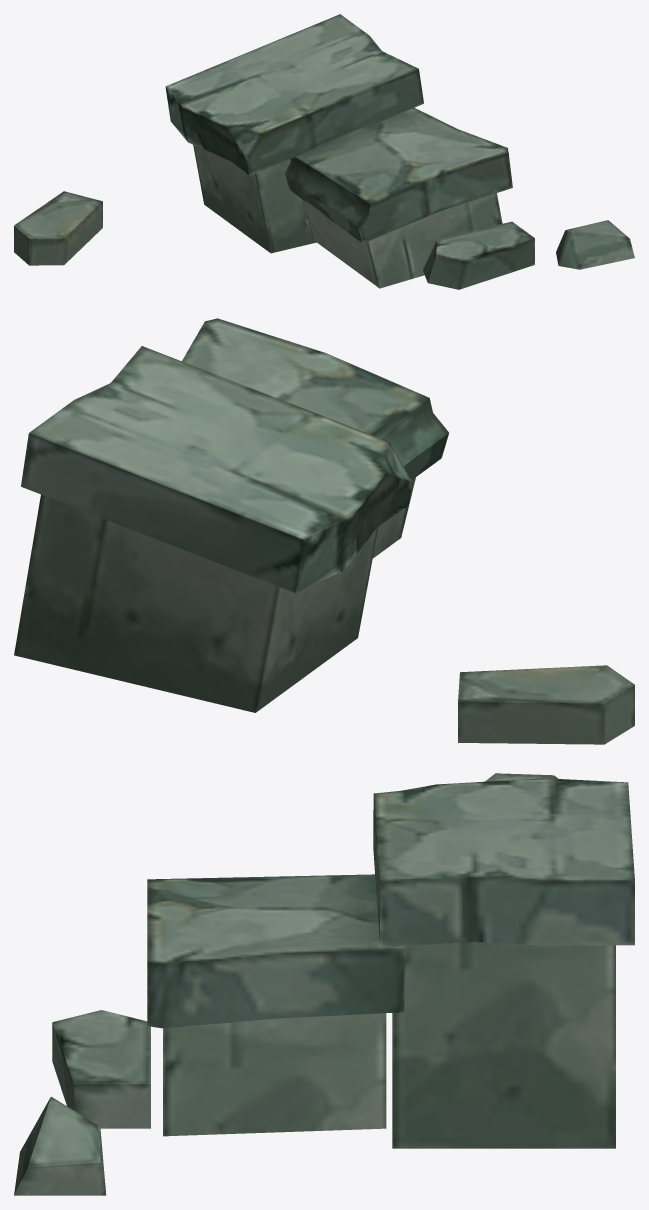
Rendered from 2_YiZhan_SuiShi_01.FBX.
3 renders of one model, top to bottom at view 1: azimuth 30°, elevation 25°; view 2: azimuth 150°, elevation 25°; view 3: azimuth 270°, elevation 25°, orthographic. The views are drawn at different scales.
Parts seen in each view (by area): view 1: 2_YiZhan_SuiShi_01; view 2: 2_YiZhan_SuiShi_01; view 3: 2_YiZhan_SuiShi_01.
Part boxes in pixels (left/top/right/bottom): 2_YiZhan_SuiShi_01: left=14, top=14, right=634, bottom=289; 2_YiZhan_SuiShi_01: left=14, top=318, right=634, bottom=744; 2_YiZhan_SuiShi_01: left=14, top=773, right=634, bottom=1195.
Size of the model in its own units: 358 by 113 by 249.
1 material, 1 textured.
